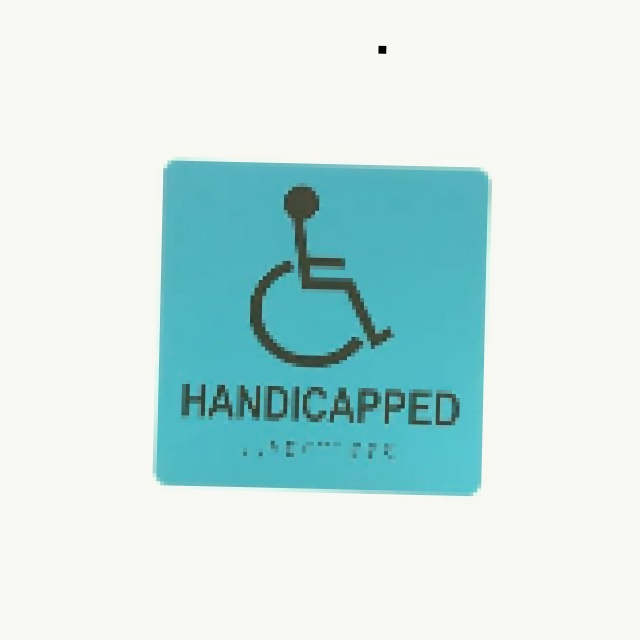ISA: (246, 173, 400, 372)
